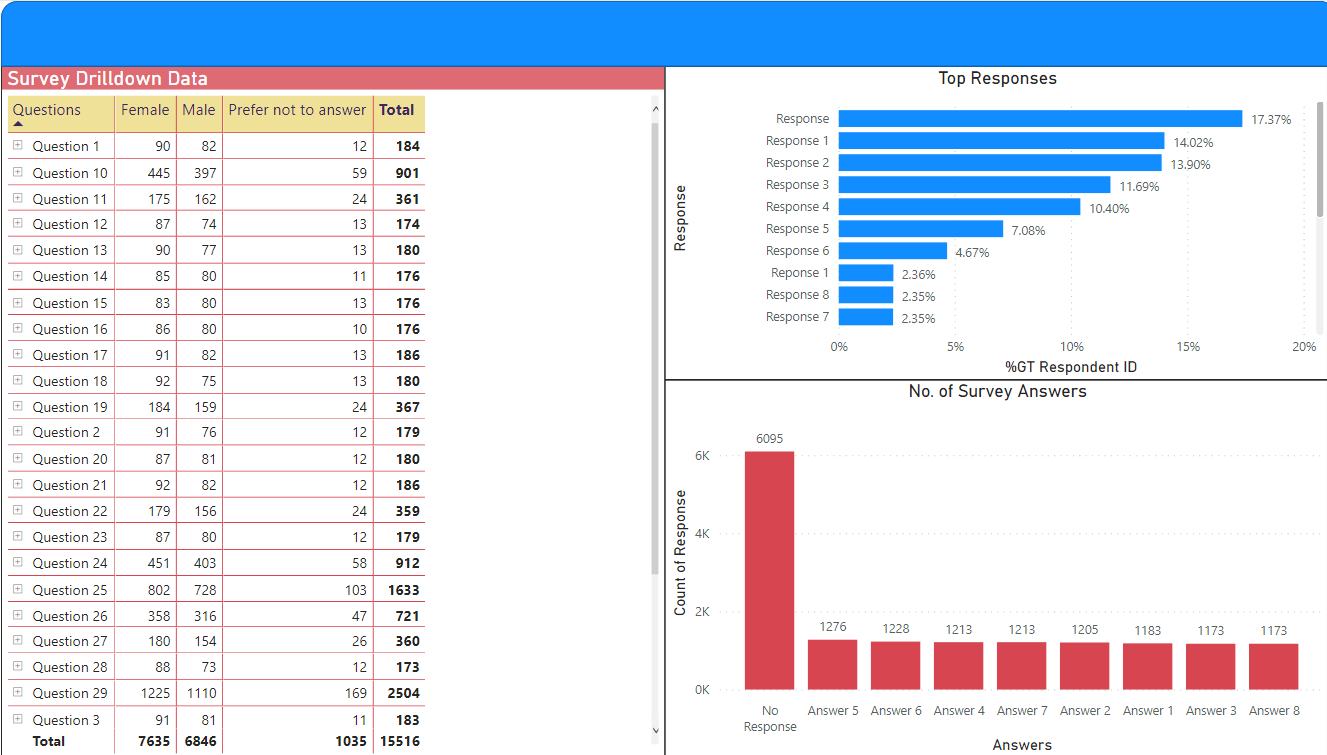

The dashboard page shown, as its layout file describes it:
{"tool":"powerbi","page":{"name":"Dashboard 2","canvas":[1280,720],"ordinal":1},"visuals":[{"type":"pivotTable","title":"Survey Drilldown Data","fields":{"Values":["CountNonNull(Personal Details.Answers)"],"Rows":["Personal Details.Questions","Personal Details.Response","Personal Details.Division","Personal Details.Position Level","Personal Details.Generation"],"Columns":["Personal Details.Gender"]},"box":[9.6,62.3,631,657.4],"z":0},{"type":"columnChart","title":"No. of Survey Answers","fields":{"Category":["Personal Details.Answers"],"Y":["CountNonNull(Personal Details.Response)"]},"box":[640.6,360.4,631,359.2],"z":1000},{"type":"barChart","title":"Top Responses","fields":{"Category":["Personal Details.Response"],"Y":["CountNonNull(Personal Details.Respondent ID)"]},"box":[640.6,62.3,631,298.1],"z":2000},{"type":"shape","box":[9.6,0,1270.4,62.3],"z":2001}]}

Visuals, with their boxes in screenshot pixels (x1, y1, x2, y2), scaled from the page's 1280x720 canvas onto the 1327x755 screenshot:
"Survey Drilldown Data" pivotTable: locate(10, 65, 664, 754)
"No. of Survey Answers" columnChart: locate(664, 378, 1318, 754)
"Top Responses" barChart: locate(664, 65, 1318, 378)
shape: locate(10, 0, 1326, 65)
